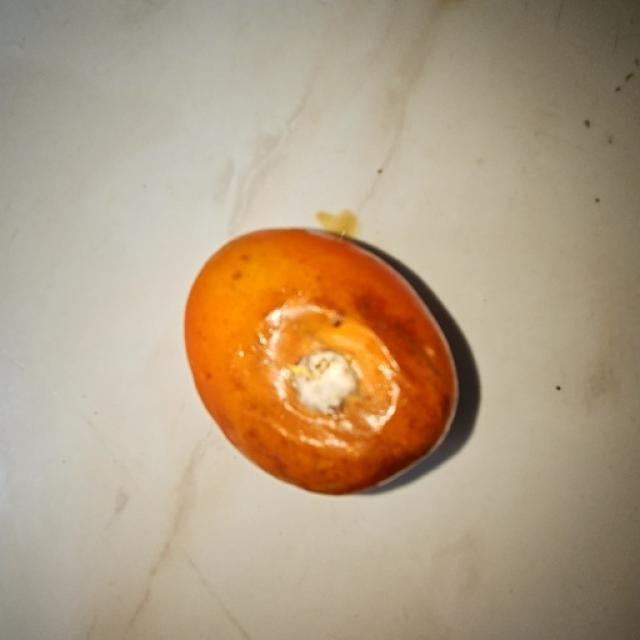Red: (182, 224, 460, 496)
